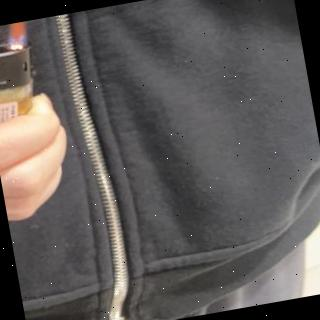fire: (7, 21, 33, 52)
